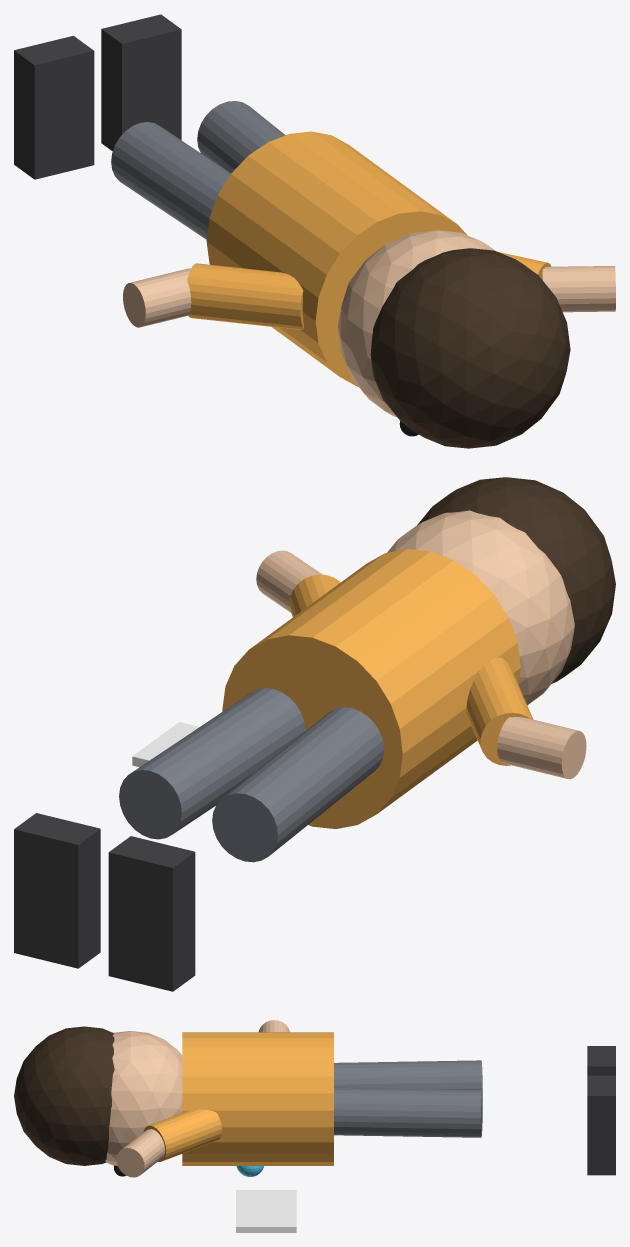
File: Travel_Buddy.glb
3 renders of one model, top to bottom at view 1: azimuth 30°, elevation 25°; view 2: azimuth 150°, elevation 25°; view 3: azimuth 270°, elevation 25°, orthographic. The views are drawn at different scales.
Visible parts, largest first — view 1: hair, torso, shoe.L, shoe.R, leg.L, head, arm.L, leg.R, forearm.L, forearm.R; view 2: torso, leg.L, leg.R, head, shoe.L, shoe.R, hair, forearm.L, arm.L, forearm.R, arm.R, map; view 3: torso, hair, leg.R, head, leg.L, shoe.R, map, arm.R, forearm.R, shoe.L, forearm.L.
Part boxes in pixels (left/top/right/bottom): hair: left=370, top=248, right=570, bottom=448; torso: left=206, top=131, right=466, bottom=386; shoe.L: left=14, top=35, right=94, bottom=179; shoe.R: left=101, top=14, right=181, bottom=151; leg.L: left=111, top=122, right=230, bottom=239; head: left=337, top=230, right=495, bottom=417; arm.L: left=187, top=263, right=303, bottom=329; leg.R: left=197, top=101, right=285, bottom=173; forearm.L: left=123, top=268, right=191, bottom=327; forearm.R: left=542, top=266, right=615, bottom=312; torso: left=222, top=549, right=520, bottom=828; leg.L: left=212, top=707, right=384, bottom=862; leg.R: left=119, top=688, right=305, bottom=839; head: left=387, top=510, right=574, bottom=705; shoe.L: left=108, top=836, right=195, bottom=991; shoe.R: left=14, top=813, right=100, bottom=968; hair: left=417, top=477, right=615, bottom=683; forearm.L: left=497, top=717, right=586, bottom=779; arm.L: left=466, top=657, right=533, bottom=765; forearm.R: left=256, top=550, right=322, bottom=612; arm.R: left=289, top=574, right=340, bottom=616; map: left=132, top=722, right=199, bottom=767; torso: left=182, top=1032, right=333, bottom=1165; hair: left=14, top=1026, right=114, bottom=1165; leg.R: left=334, top=1087, right=482, bottom=1137; head: left=105, top=1031, right=182, bottom=1165; leg.L: left=334, top=1060, right=482, bottom=1090; shoe.R: left=587, top=1075, right=615, bottom=1175; map: left=236, top=1190, right=296, bottom=1232; arm.R: left=143, top=1109, right=221, bottom=1161; forearm.R: left=116, top=1129, right=165, bottom=1177; shoe.L: left=587, top=1046, right=615, bottom=1075; forearm.L: left=258, top=1020, right=289, bottom=1032.
Size of the model in its own units: 1.98 by 0.99 by 3.77.
